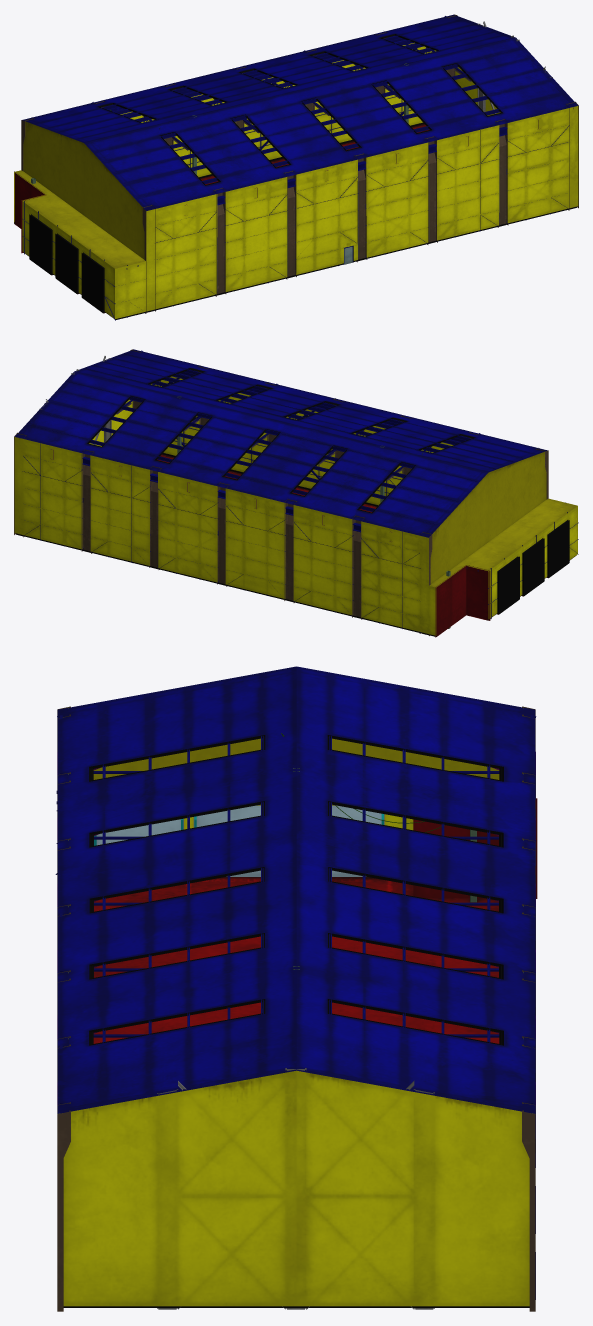
File: changjing.gltf
The picture shows the model from 3 angles, top to bottom: view 1: azimuth 30°, elevation 25°; view 2: azimuth 150°, elevation 25°; view 3: azimuth 270°, elevation 25°; orthographic projection. The views are drawn at different scales.
Parts seen in each view (by area): view 1: Warehouse, Columns, Roof Beams, Small Bracing; view 2: Warehouse, Columns, Roof Beams, Small Bracing; view 3: Warehouse, Columns, Roof Beams, Roof Gantry, Garage Door, Garage Door.001.
Boxes of the visible parts, left/top/right/bottom form: Warehouse: left=14, top=14, right=578, bottom=319; Columns: left=21, top=14, right=578, bottom=313; Roof Beams: left=38, top=19, right=573, bottom=205; Small Bracing: left=22, top=47, right=569, bottom=320; Warehouse: left=14, top=349, right=577, bottom=637; Columns: left=14, top=349, right=548, bottom=635; Roof Beams: left=19, top=354, right=528, bottom=541; Small Bracing: left=22, top=381, right=578, bottom=632; Warehouse: left=57, top=666, right=537, bottom=1307; Columns: left=57, top=706, right=535, bottom=1311; Roof Beams: left=57, top=716, right=536, bottom=1104; Roof Gantry: left=93, top=771, right=499, bottom=1037; Garage Door: left=94, top=818, right=183, bottom=845; Garage Door.001: left=193, top=805, right=260, bottom=876.
Size of the model in its own units: 44.1 by 11.58 by 20.61.
Materials: 3 (3 with a texture image).
